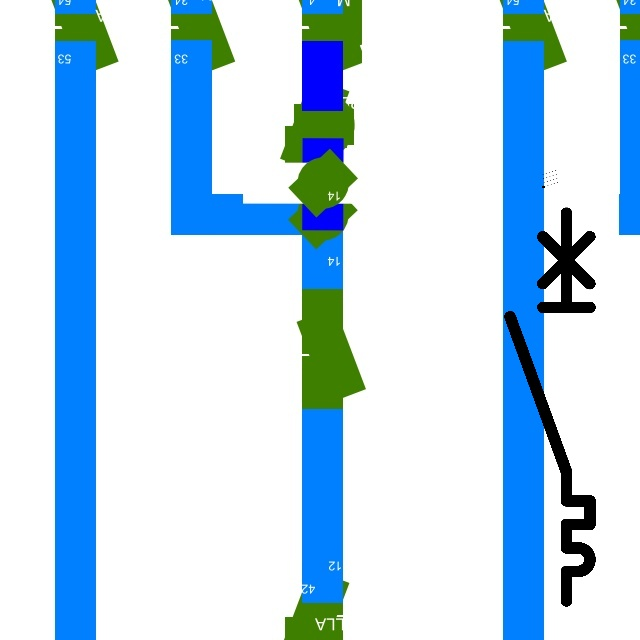interruptor_termomagnetico: (500, 203, 600, 611)
